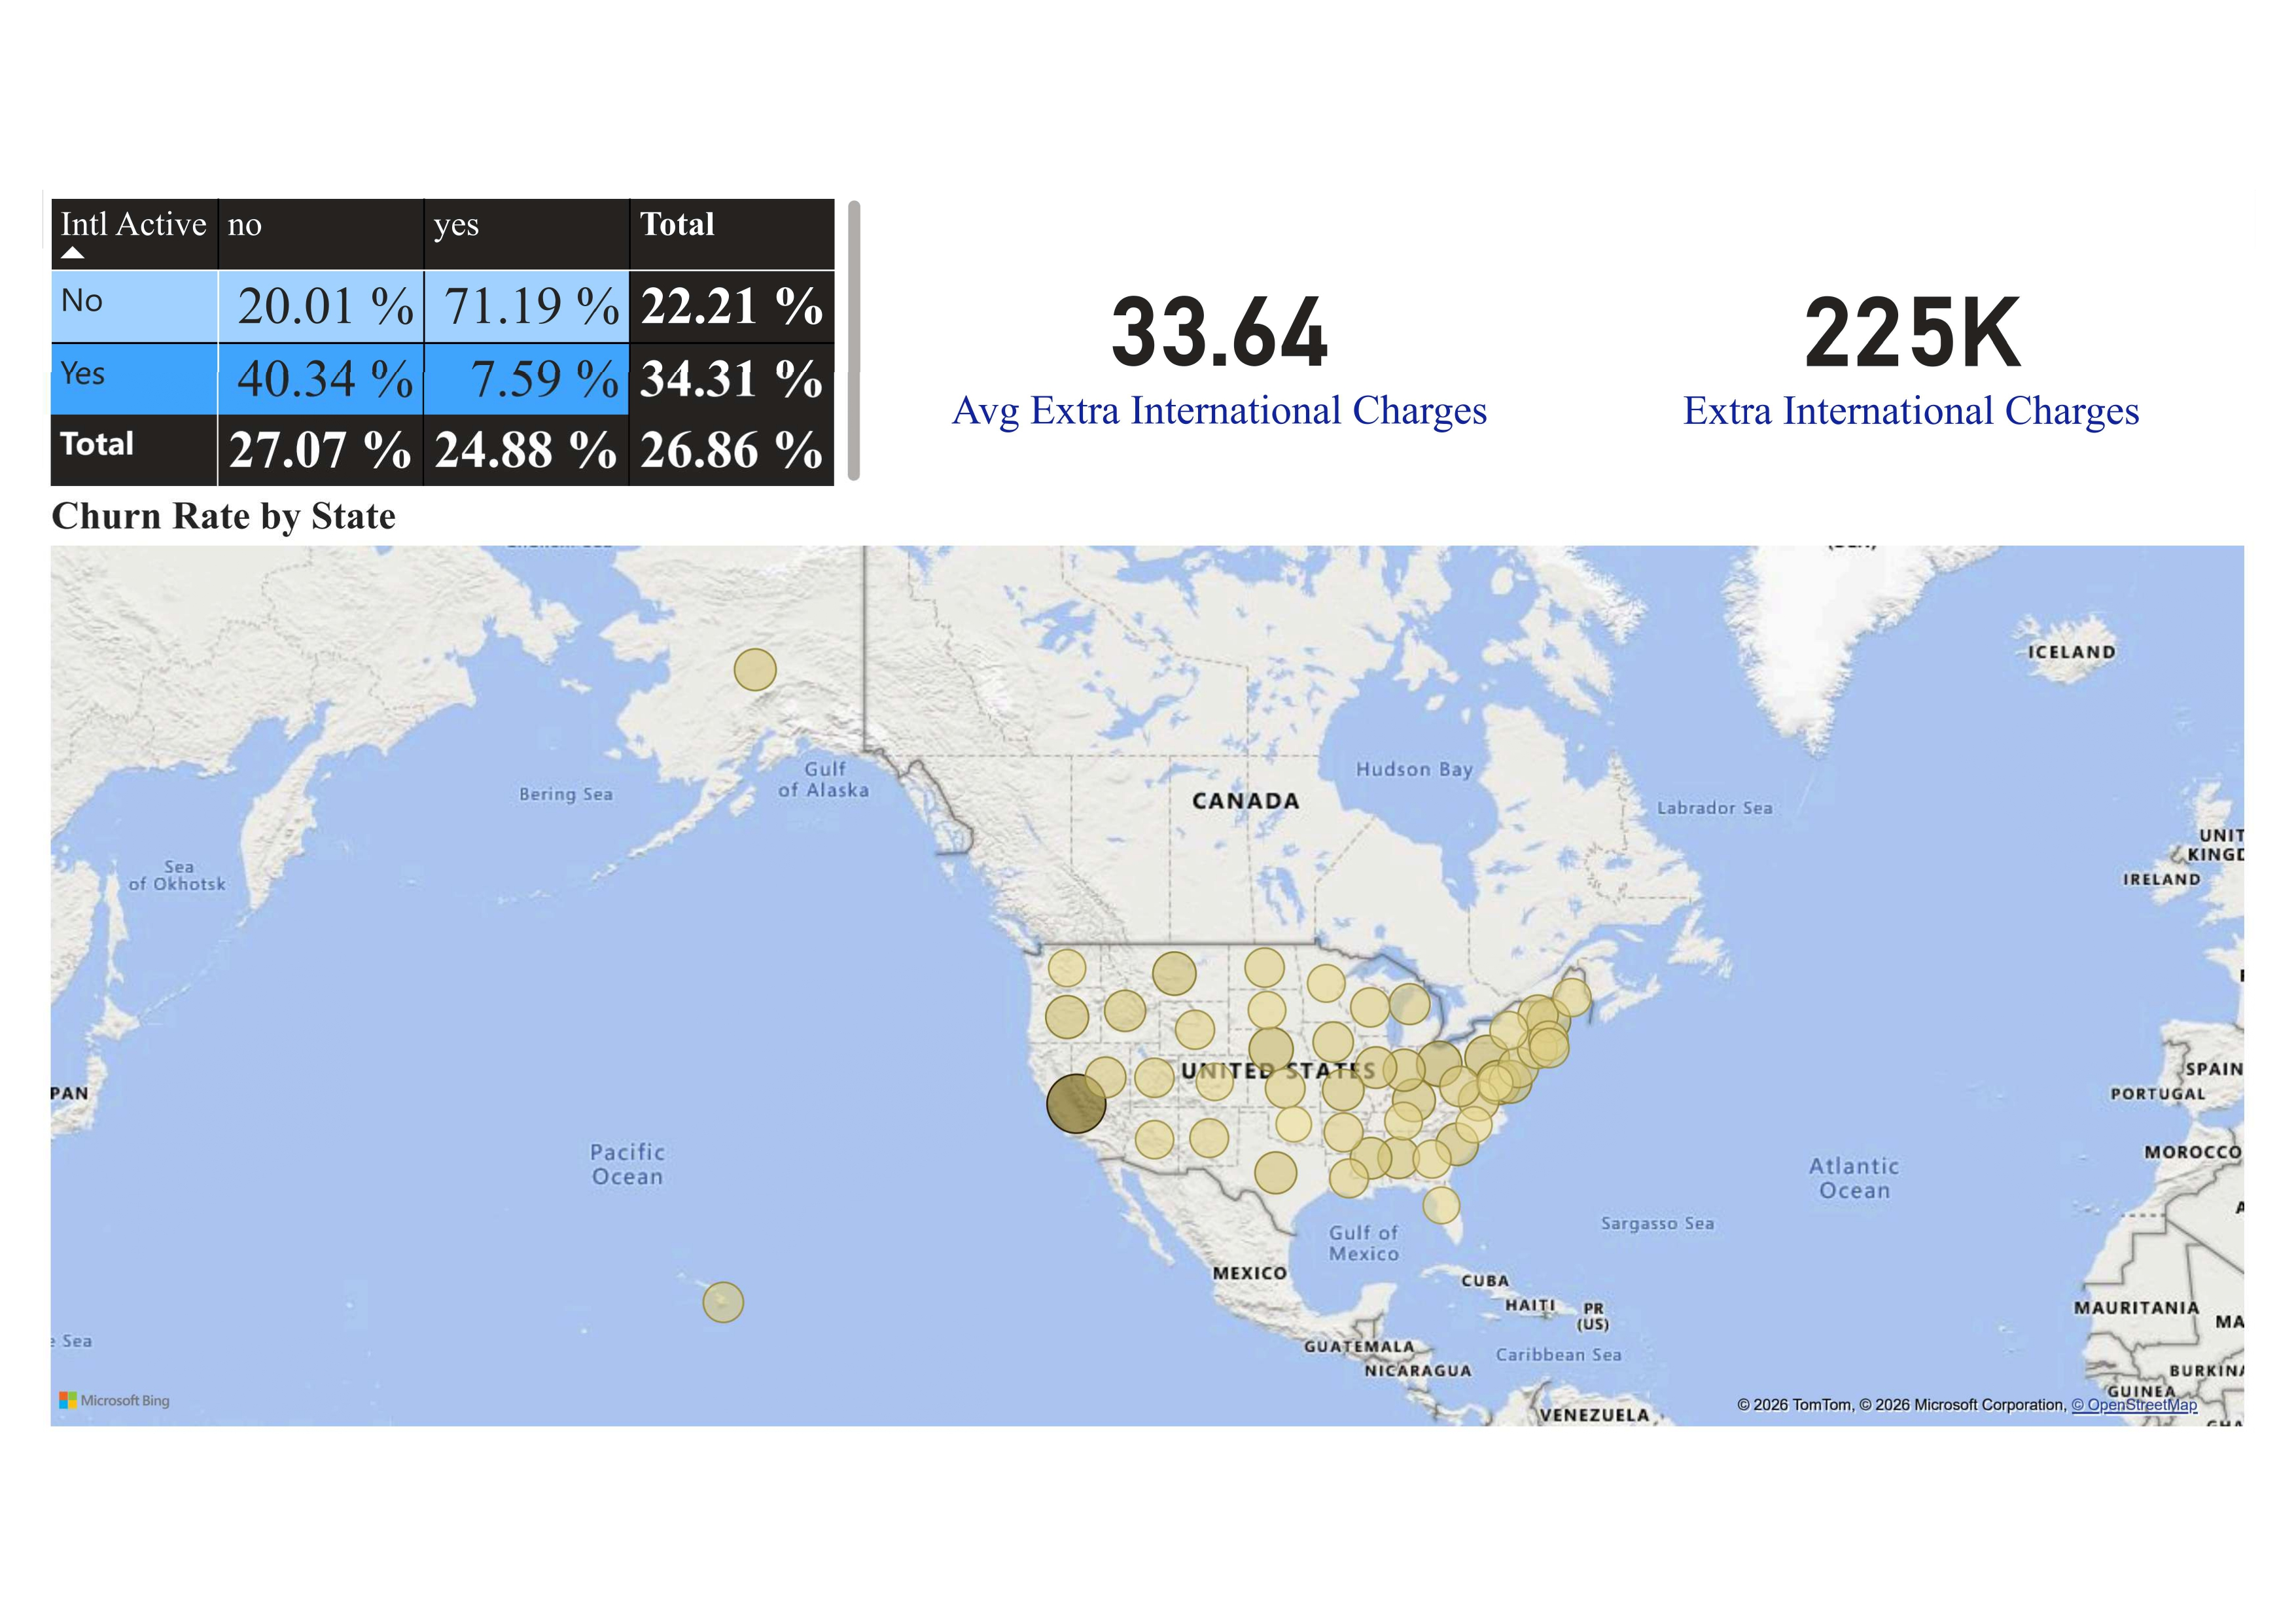

What the dashboard file says about the page in this screenshot:
{"tool":"powerbi","page":{"name":"International Calls","canvas":[1280,720],"ordinal":3},"visuals":[{"type":"pivotTable","fields":{"Rows":["Databel - Data.Intl Active"],"Values":["Databel - Data.Churn Rate"],"Columns":["Databel - Data.Intl Plan"]},"box":[0,0,479.1,175.6],"z":0},{"type":"map","fields":{"Category":["Databel - Data.State"],"Size":["Databel - Data.Churn Rate"]},"box":[0,175.6,1279.1,544.2],"z":1000},{"type":"card","fields":{"Values":["Databel - Data.Avg Extra International Charges"]},"box":[479.1,0,403.5,175.6],"z":2000},{"type":"card","fields":{"Values":["Sum(Databel - Data.Extra International Charges)"]},"box":[882,0,397,176],"z":3000}]}

Visuals, with their boxes on the page's 1280x720 design canvas (x1, y1, x2, y2). These are canvas units, not pixel positions in the 2296x1623 screenshot, which may show the page scaled, cropped or inside an application window:
pivotTable - Databel - Data.Intl Active x Databel - Data.Churn Rate: (0,0,479,176)
map - Databel - Data.State x Databel - Data.Churn Rate: (0,176,1279,720)
card - Databel - Data.Avg Extra International Charges: (479,0,883,176)
card - Sum(Databel - Data.Extra International Charges): (882,0,1279,176)
